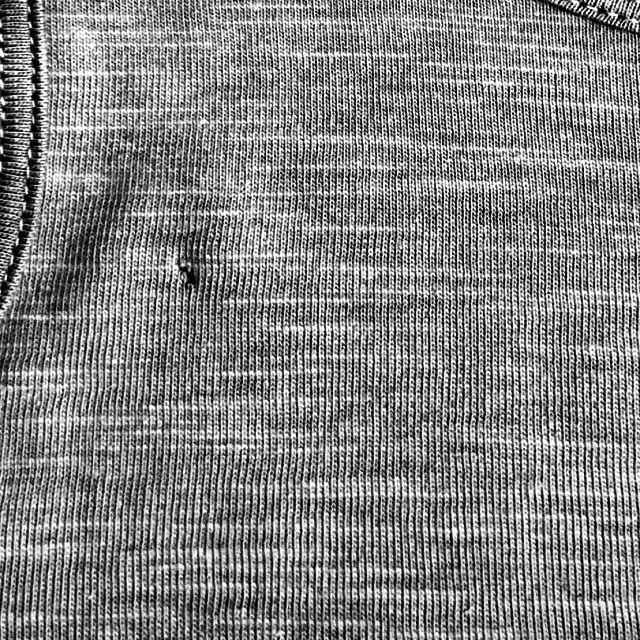Hole: (164, 250, 217, 292)
